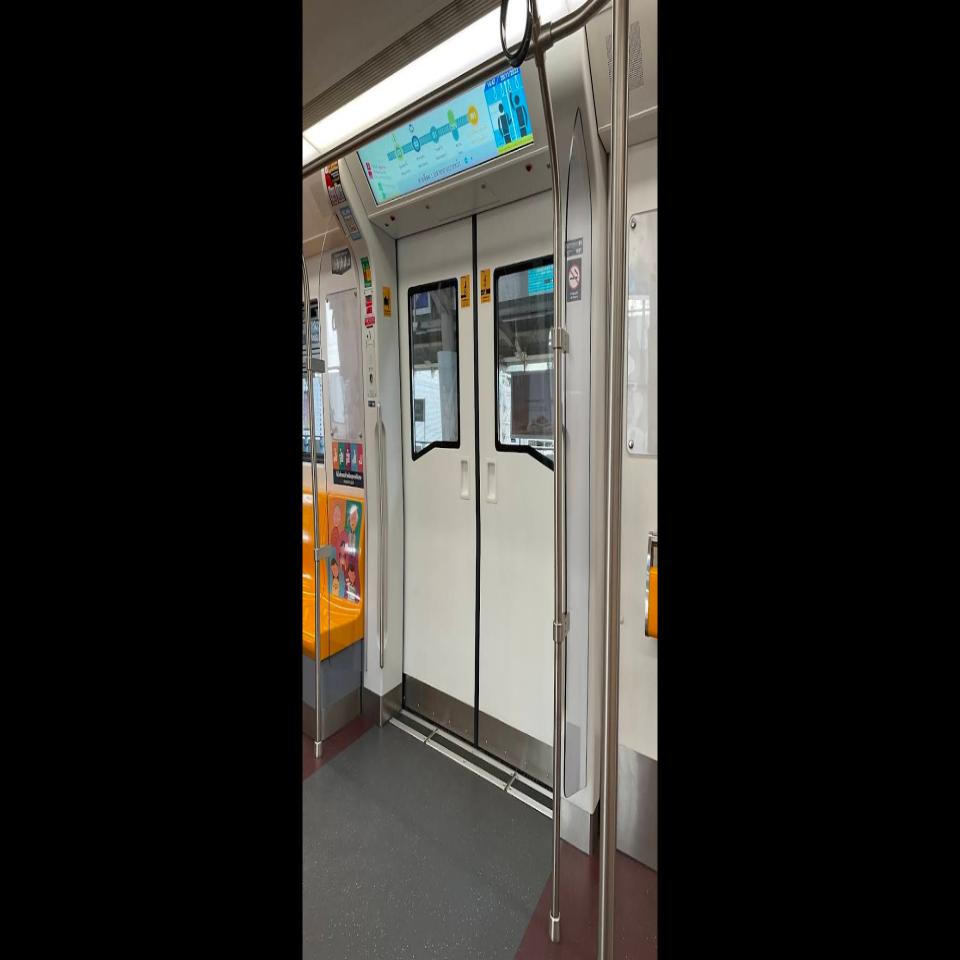signage: (466, 104, 489, 147)
